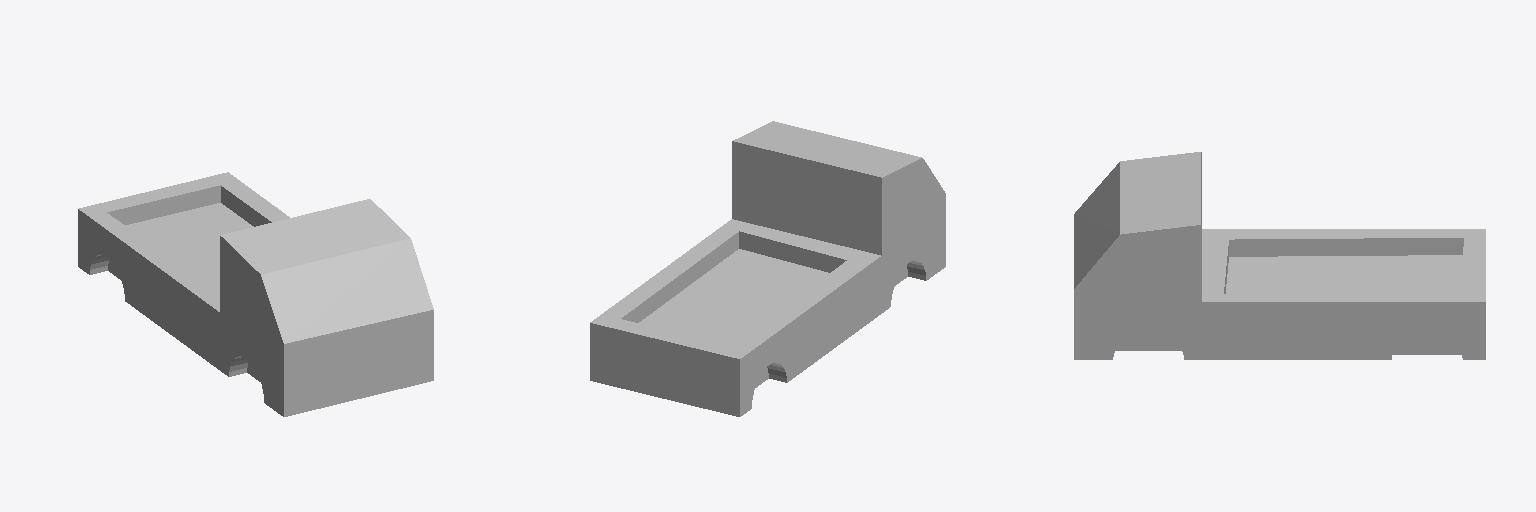
Rendered from teher.obj.
3 renders of one model, left to right at view 1: azimuth 30°, elevation 25°; view 2: azimuth 150°, elevation 25°; view 3: azimuth 270°, elevation 25°, orthographic.
Parts seen in each view (by area): view 1: Cube; view 2: Cube; view 3: Cube.
Part boxes in pixels (left/top/right/bottom): Cube: left=78, top=172, right=433, bottom=416; Cube: left=590, top=121, right=945, bottom=416; Cube: left=1074, top=152, right=1485, bottom=359.
Bounding box in the file's own units: 2 × 1.73 × 4.75.